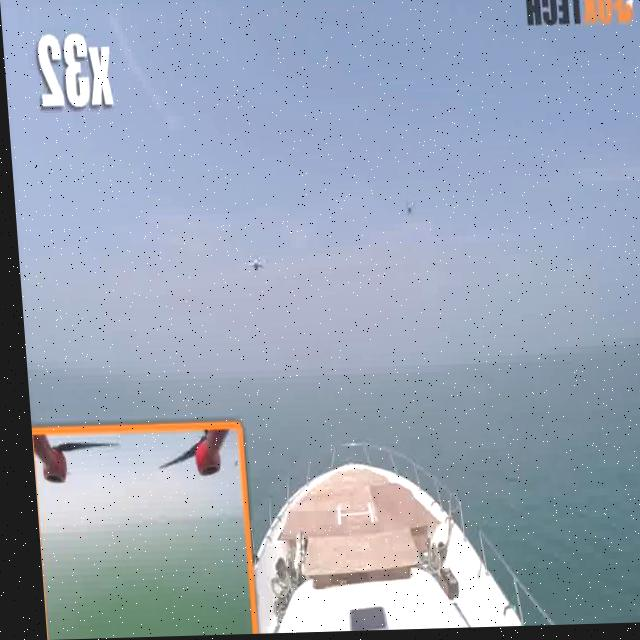drone: (241, 243, 266, 282), (396, 199, 414, 229)
